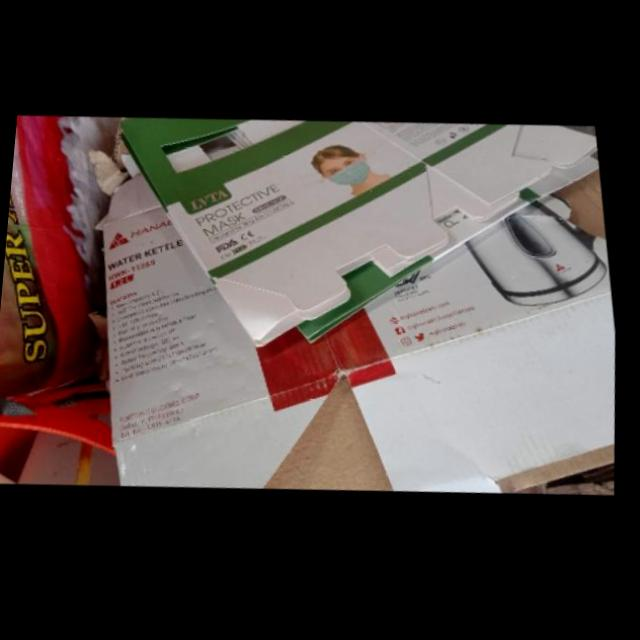carton: (100, 159, 621, 496), (128, 123, 608, 351)
